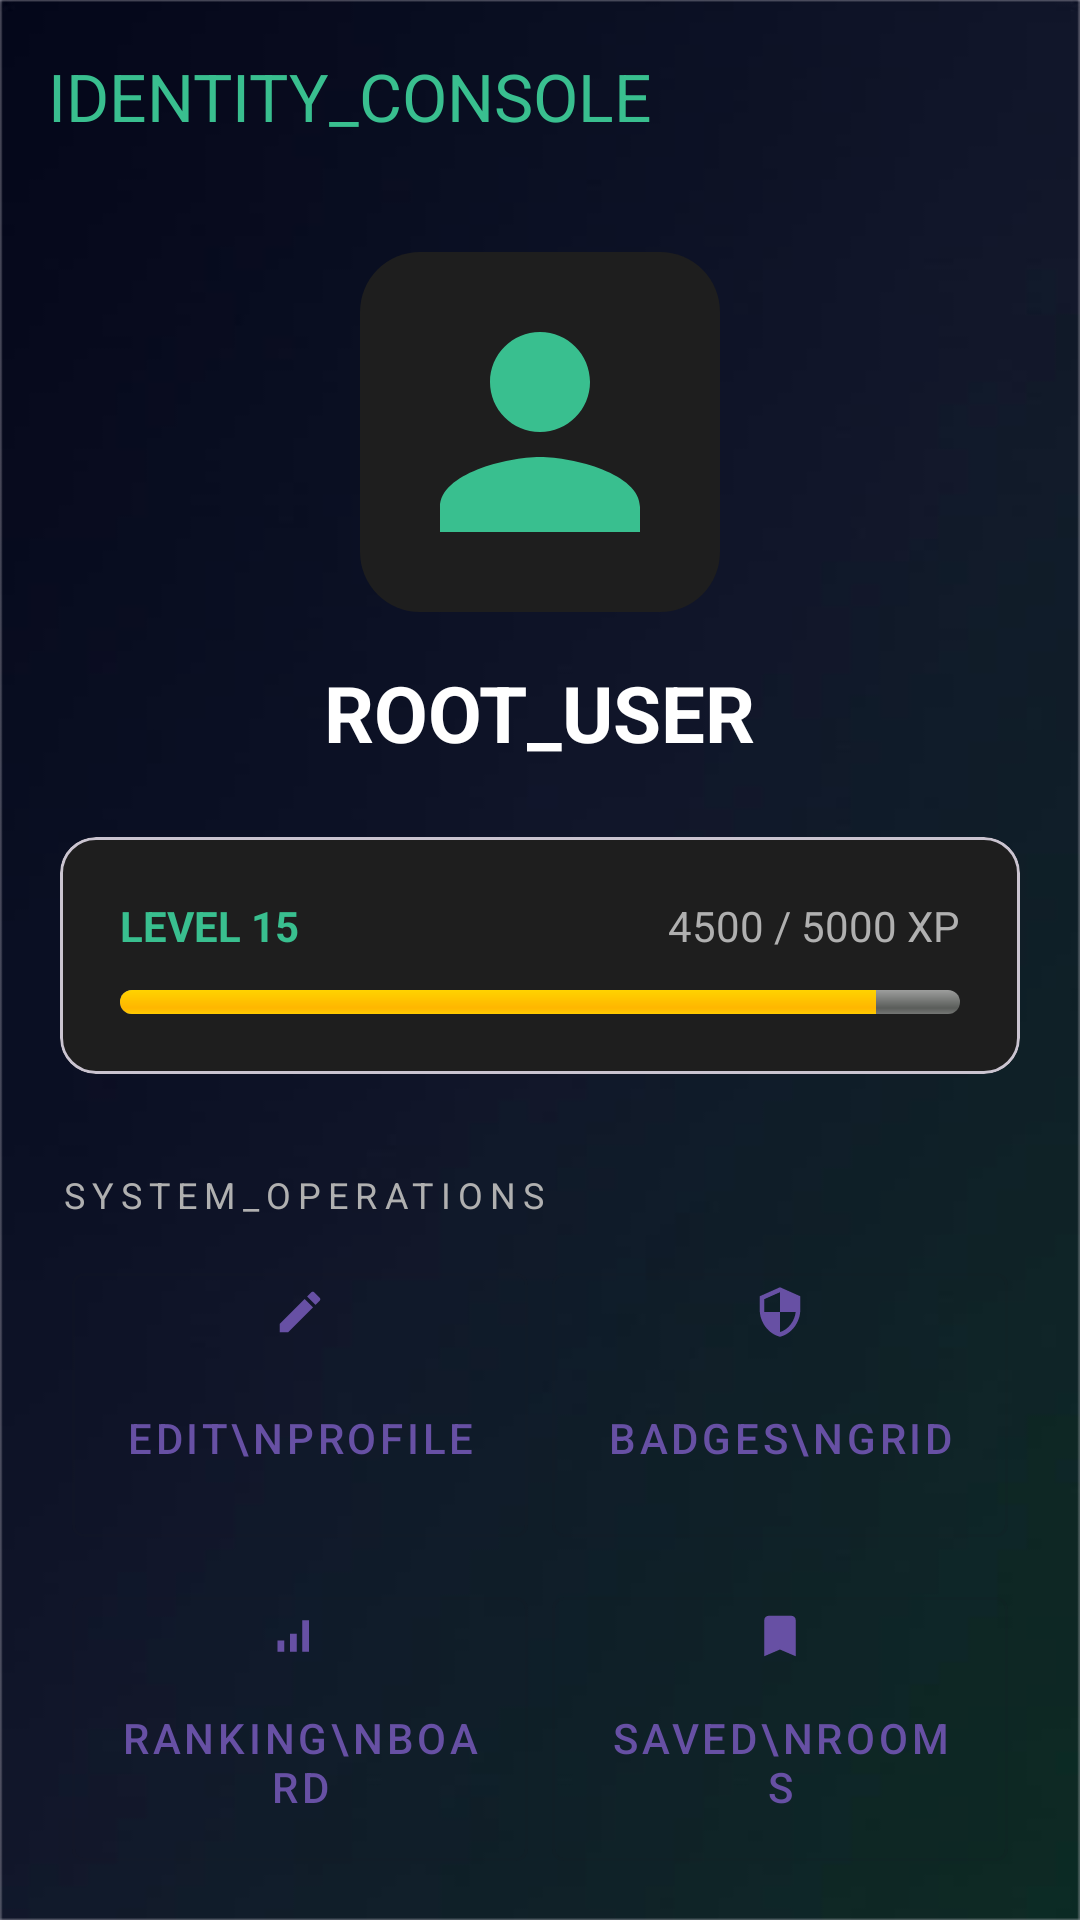

Screen size 1080w x 1920h. Icon name, then its center in pixels as (x,y):
person: (540,432)
